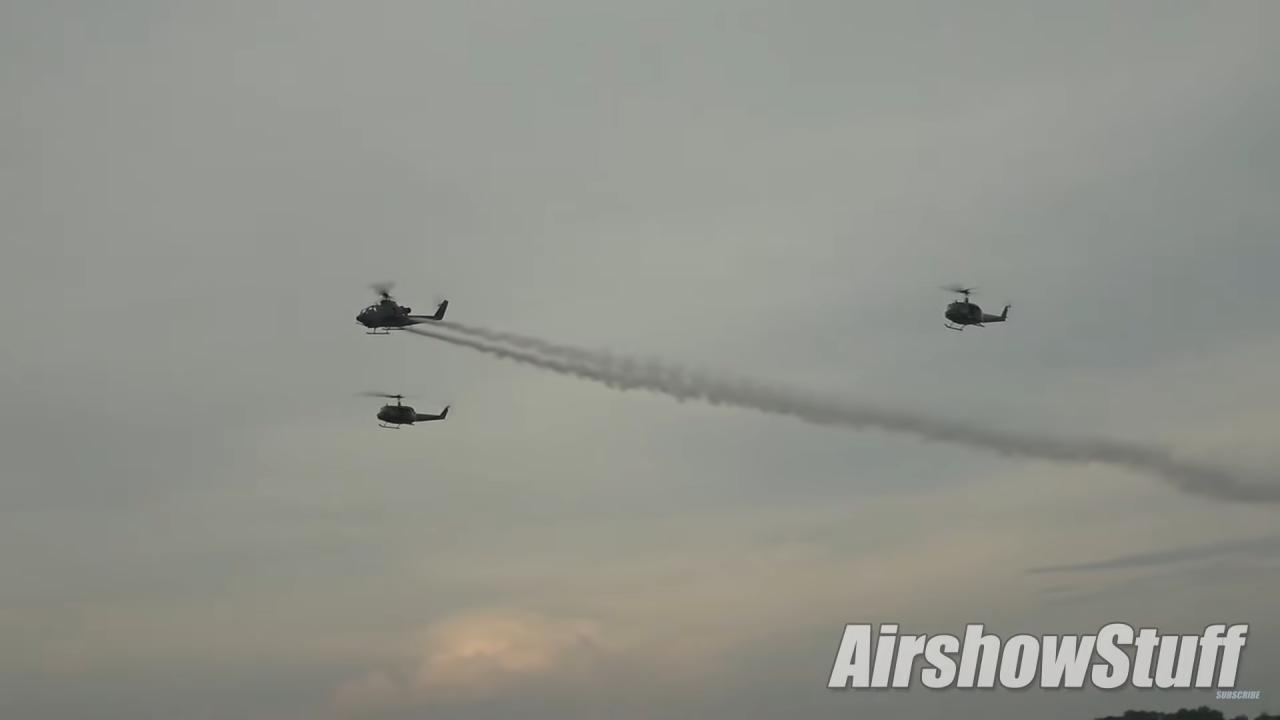Helicopter: (334, 272, 476, 342), (914, 270, 1023, 340), (343, 385, 470, 438)
